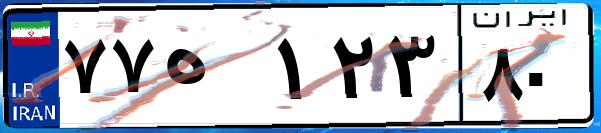0: (525, 38, 570, 115)
1: (270, 28, 330, 110)
2: (330, 28, 385, 110)
3: (385, 28, 445, 110)
7: (57, 26, 110, 100), (110, 28, 158, 98)
8: (475, 38, 525, 113)
ه: (158, 20, 270, 120)
